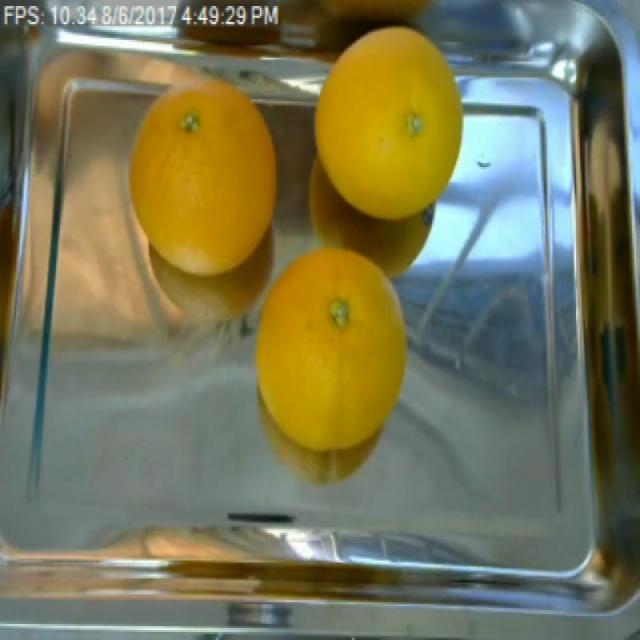Fruit: (301, 6, 484, 205)
